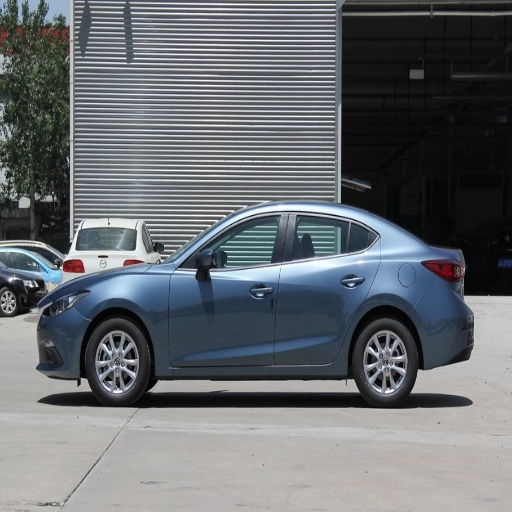_background_: (415, 306, 473, 365)
back_glass: (276, 210, 381, 365)
back_left_door: (423, 260, 463, 283)
front_glass: (172, 211, 287, 365)
trunk: (352, 317, 418, 406), (83, 318, 150, 403)
